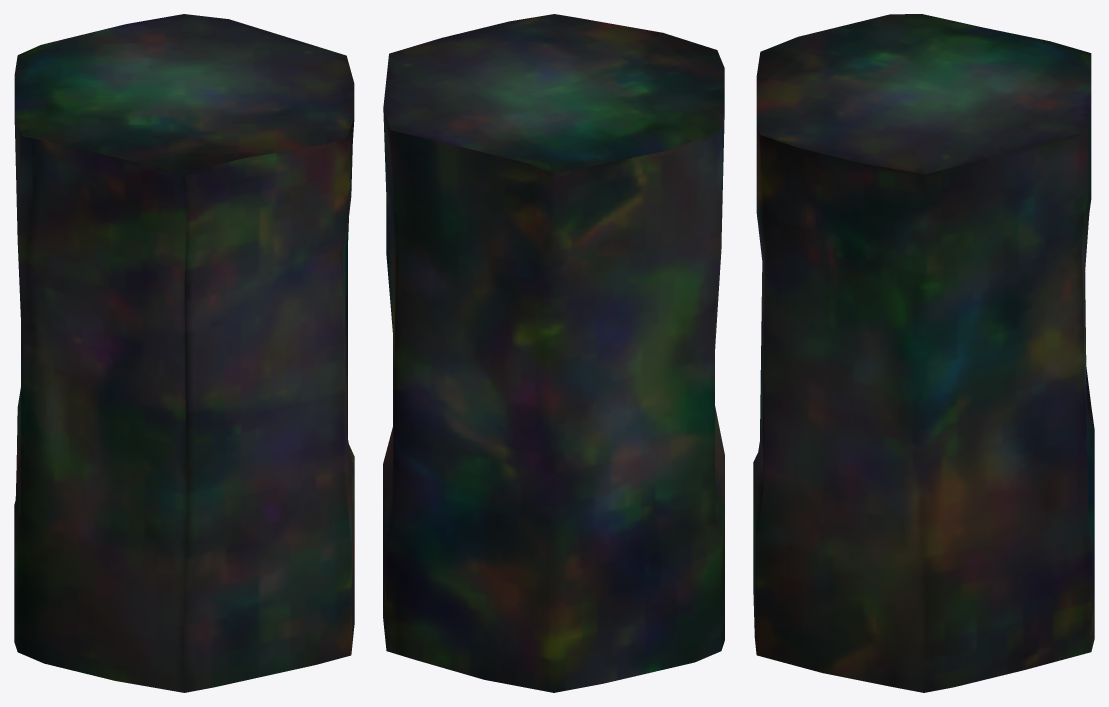
Rendered from objects_un_dlc1_crystal01_05.gltf.
3 views of the same model, side by side, from view 1: azimuth 30°, elevation 25°; view 2: azimuth 150°, elevation 25°; view 3: azimuth 270°, elevation 25° (orthographic).
Visible parts, largest first — view 1: crystal_05_in_shape:objects_un_dlc1_crystal01_01; view 2: crystal_05_in_shape:objects_un_dlc1_crystal01_01; view 3: crystal_05_in_shape:objects_un_dlc1_crystal01_01.
Part boxes in pixels (<box>): crystal_05_in_shape:objects_un_dlc1_crystal01_01: <box>14,14,354,692</box>; crystal_05_in_shape:objects_un_dlc1_crystal01_01: <box>383,14,724,692</box>; crystal_05_in_shape:objects_un_dlc1_crystal01_01: <box>753,14,1094,692</box>.
Size of what is drawn, in the model's own units: 11.77 by 17.64 by 10.4.
Materials: 1 (1 with a texture image).
